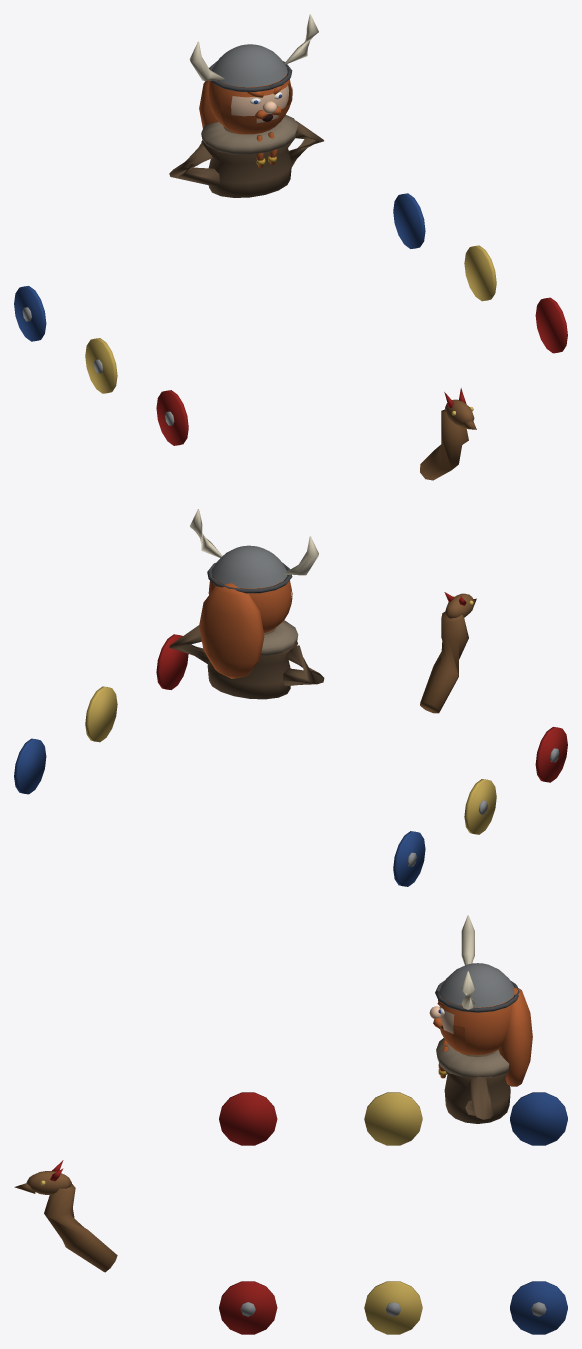
3 views of the same model, one above another, from view 1: azimuth 30°, elevation 25°; view 2: azimuth 150°, elevation 25°; view 3: azimuth 270°, elevation 25° (orthographic). The views are drawn at different scales.
Visible parts, largest first — view 1: fig_props, fig_head, fig_body; view 2: fig_props, fig_head, fig_body; view 3: fig_props, fig_head, fig_body.
Part boxes in pixels (bbox=[...]): fig_props: bbox=[14, 193, 567, 480]; fig_head: bbox=[189, 14, 318, 167]; fig_body: bbox=[169, 115, 323, 197]; fig_props: bbox=[14, 592, 567, 886]; fig_head: bbox=[190, 509, 318, 678]; fig_body: bbox=[169, 620, 324, 699]; fig_props: bbox=[14, 1092, 567, 1334]; fig_head: bbox=[429, 915, 532, 1086]; fig_body: bbox=[436, 1038, 510, 1123].
Bounding box in the file's own units: 2.98 × 2.36 × 3.62.
